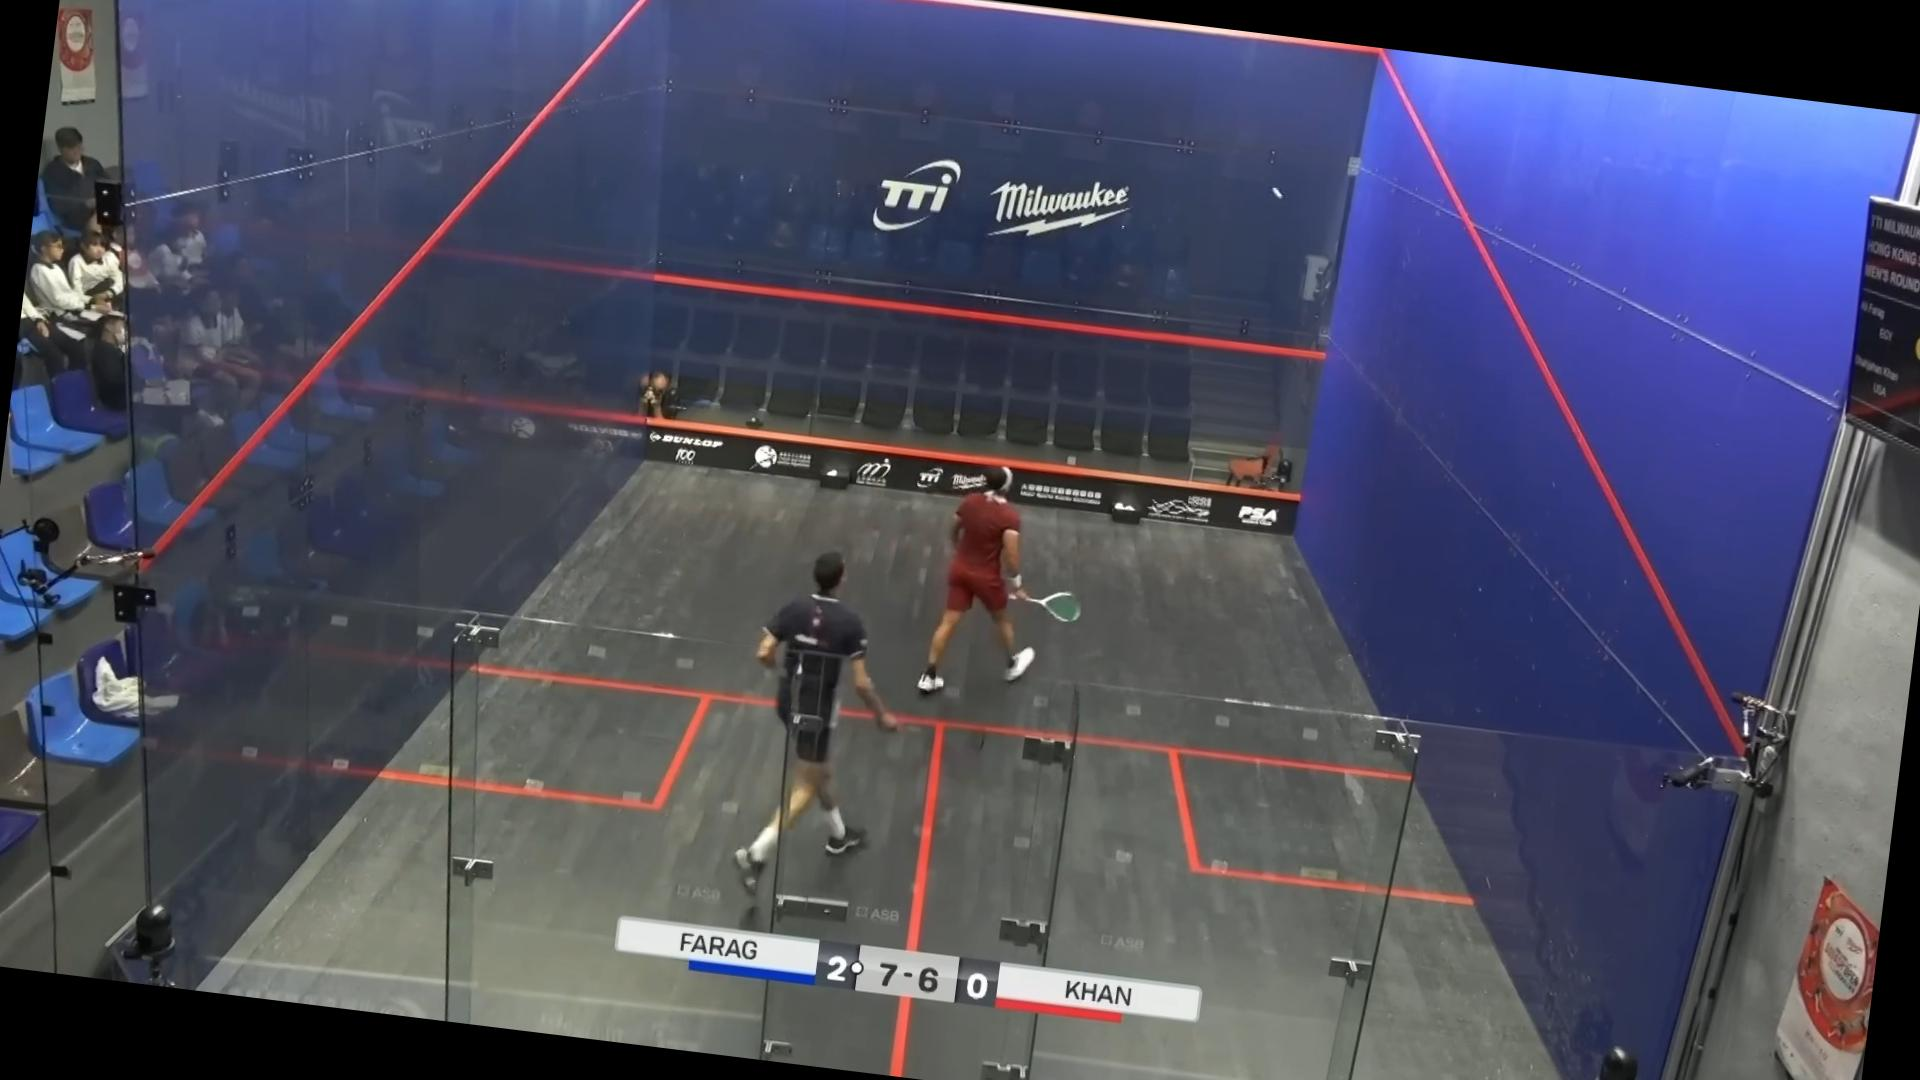Racket: (1026, 579, 1087, 636)
